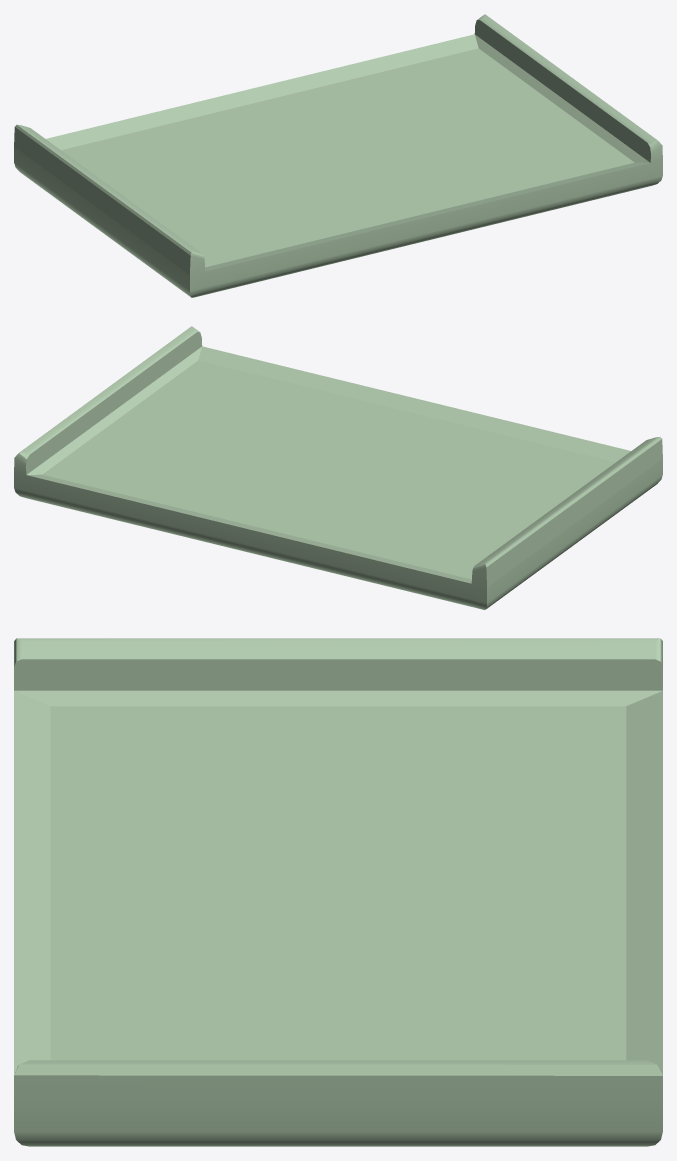
File: tray.fbx
3 views of the same model, one above another, from view 1: azimuth 30°, elevation 25°; view 2: azimuth 150°, elevation 25°; view 3: azimuth 270°, elevation 25° (orthographic). The views are drawn at different scales.
Visible parts, largest first — view 1: tray; view 2: tray; view 3: tray.
Part boxes in pixels (bbox=[...]): tray: bbox=[14, 14, 662, 297]; tray: bbox=[14, 326, 662, 609]; tray: bbox=[14, 638, 662, 1146].
Size of the model in its own units: 17.38 by 1.77 by 11.19.
